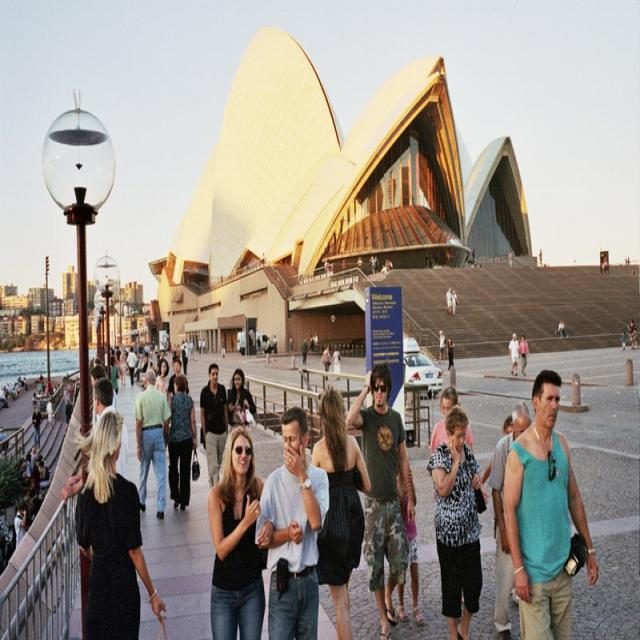body: (499, 366, 601, 639), (70, 407, 169, 639), (343, 361, 418, 639), (252, 403, 332, 639), (306, 384, 374, 639), (204, 422, 275, 638), (423, 402, 487, 639), (317, 246, 638, 284), (488, 400, 533, 640), (58, 375, 130, 504), (134, 368, 172, 521), (394, 448, 426, 628), (166, 372, 200, 512), (198, 363, 229, 490), (0, 425, 50, 503), (428, 384, 474, 456), (481, 413, 514, 486), (87, 334, 209, 353), (226, 368, 258, 427), (0, 374, 58, 406), (89, 364, 119, 415), (168, 358, 190, 413), (13, 503, 27, 550), (30, 406, 44, 450), (154, 358, 170, 396), (507, 332, 520, 378), (318, 342, 332, 382), (125, 346, 138, 388), (518, 334, 530, 378), (156, 348, 171, 378), (118, 347, 128, 388), (110, 354, 119, 396), (308, 329, 322, 353), (44, 398, 55, 428), (332, 342, 342, 375), (64, 399, 74, 431), (437, 328, 447, 360), (446, 336, 455, 371), (450, 288, 460, 316), (628, 326, 639, 350), (181, 344, 189, 376), (557, 318, 568, 340), (301, 337, 308, 365), (137, 366, 145, 390), (220, 334, 227, 360), (87, 352, 105, 362), (66, 382, 74, 404), (446, 287, 452, 316), (626, 318, 636, 335), (255, 334, 262, 358), (264, 336, 271, 357), (287, 334, 294, 355), (620, 330, 626, 352), (175, 342, 182, 359), (272, 335, 278, 354), (37, 398, 44, 414), (229, 334, 234, 356)
